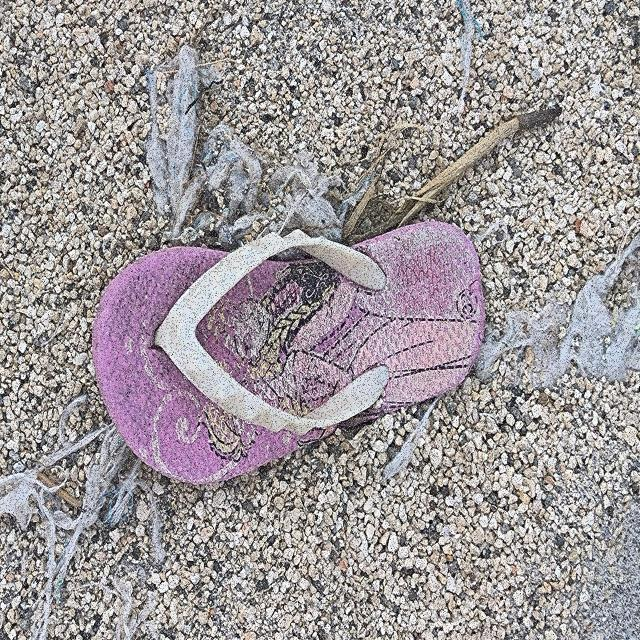rubber_waste: (91, 218, 488, 489)
